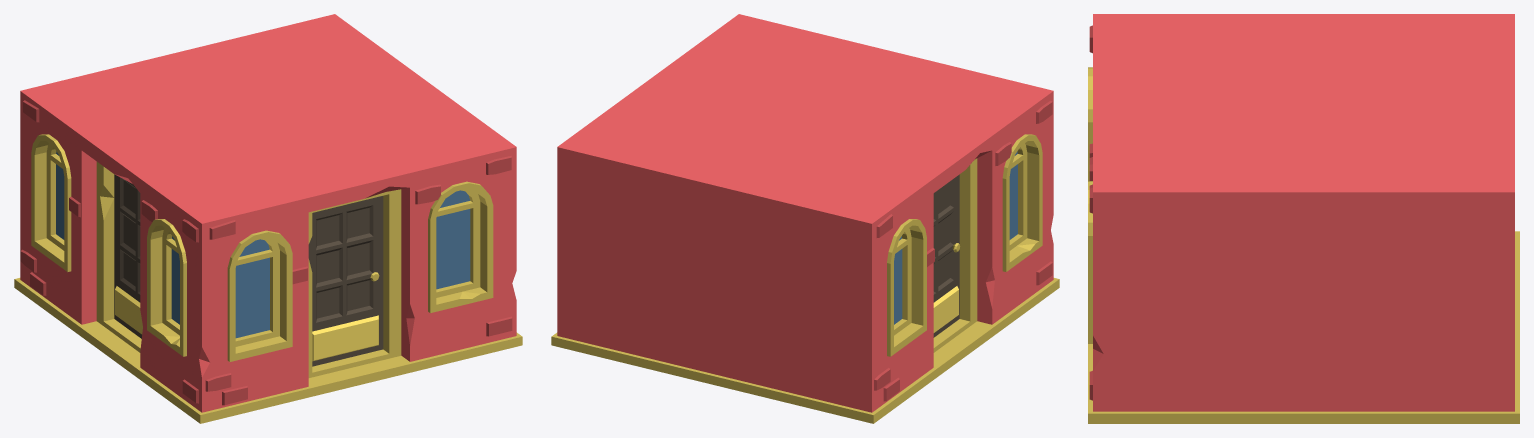
Rendered from Mod_Puerta_1.fbx.
The picture shows the model from 3 angles, left to right: view 1: azimuth 30°, elevation 25°; view 2: azimuth 150°, elevation 25°; view 3: azimuth 270°, elevation 25°; orthographic projection. The views are drawn at different scales.
Parts seen in each view (by area): view 1: SM_Bld_Apartment_Door_Corner_02; view 2: SM_Bld_Apartment_Door_Corner_02; view 3: SM_Bld_Apartment_Door_Corner_02.
Boxes of the visible parts, x1,y1,x2,y2 form: SM_Bld_Apartment_Door_Corner_02: (14, 14, 522, 423); SM_Bld_Apartment_Door_Corner_02: (551, 14, 1059, 423); SM_Bld_Apartment_Door_Corner_02: (1088, 14, 1519, 423).
Bounding box in the file's own units: 5.12 × 3 × 5.12.
